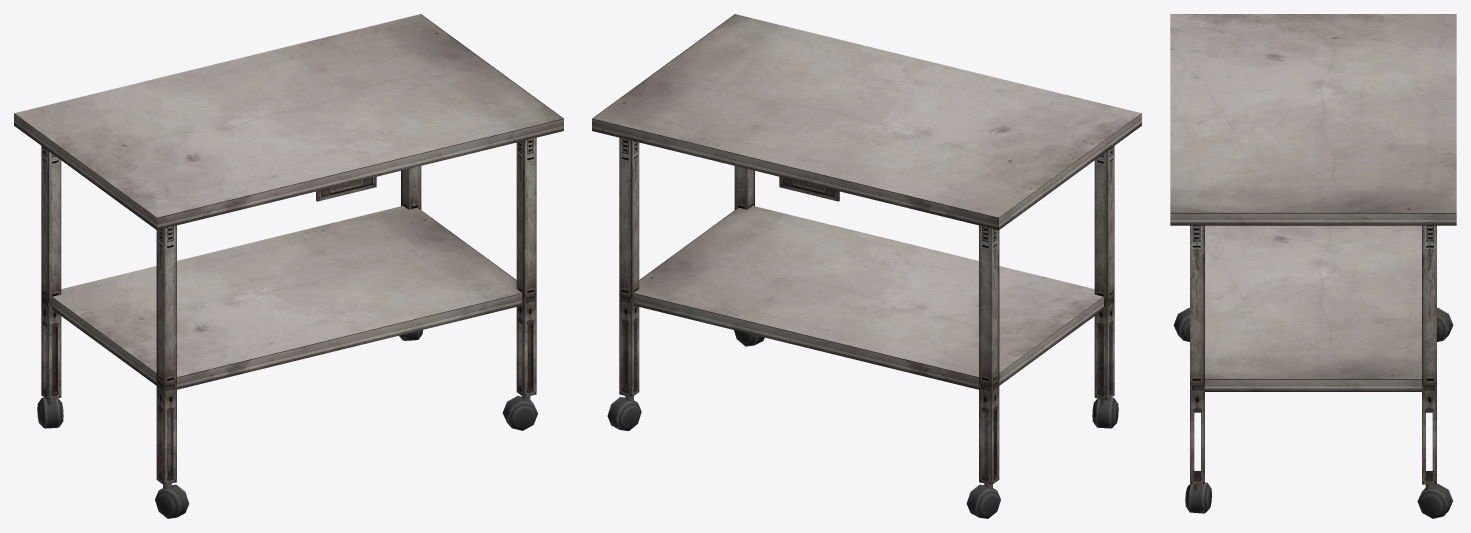
The model's file is shelving_unit_ark_room_large.dae.
The picture shows the model from 3 angles, left to right: view 1: azimuth 30°, elevation 25°; view 2: azimuth 150°, elevation 25°; view 3: azimuth 270°, elevation 25°; orthographic projection.
Parts seen in each view (by area): view 1: small, wheel; view 2: small, wheel; view 3: small, wheel.
Boxes of the visible parts, x1=… form: small: x1=14, y1=14, x2=563, y2=485; wheel: x1=37, y1=330, x2=537, y2=518; small: x1=592, y1=14, x2=1141, y2=485; wheel: x1=607, y1=330, x2=1118, y2=518; small: x1=1170, y1=14, x2=1456, y2=484; wheel: x1=1173, y1=308, x2=1453, y2=518.
Size of the model in its own units: 1.71 by 1.26 by 1.04.
